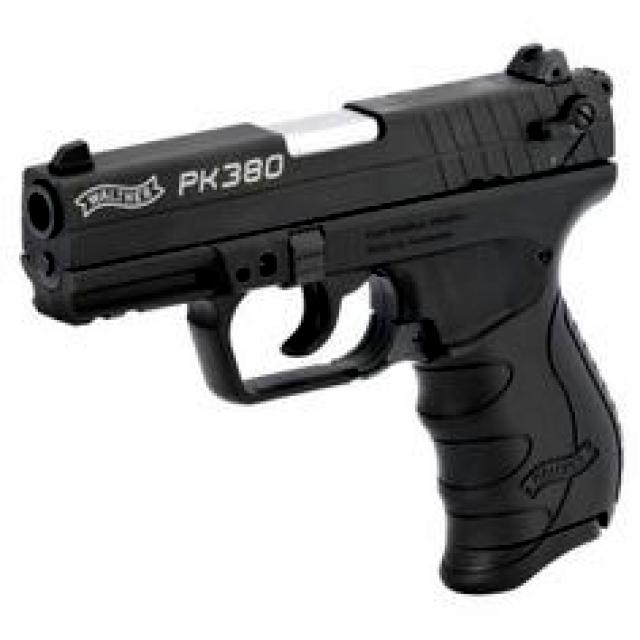semi automatic: (22, 39, 631, 614)
